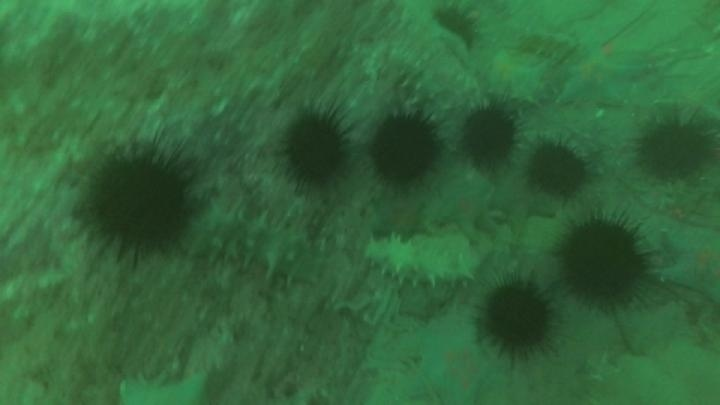echinus: (78, 141, 198, 261), (557, 215, 650, 307), (476, 278, 558, 360), (279, 107, 353, 190), (368, 111, 443, 188), (634, 113, 716, 182), (458, 102, 522, 168), (524, 137, 591, 200), (430, 3, 484, 52)
holothurian: (182, 200, 326, 287), (361, 234, 478, 291), (387, 48, 452, 114), (512, 28, 582, 63)
starfish: (411, 329, 504, 405), (555, 45, 644, 109), (655, 224, 719, 305), (481, 47, 550, 106), (489, 174, 558, 230), (432, 179, 496, 239), (116, 365, 213, 404), (368, 194, 432, 244)
